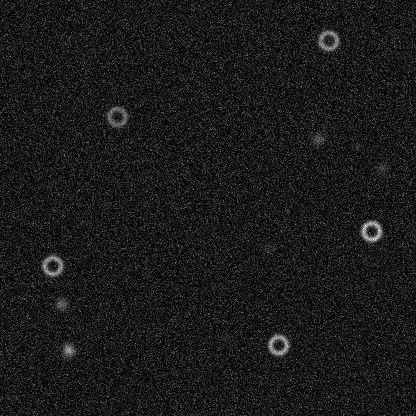Ring: (266, 332, 290, 356), (316, 28, 340, 52), (359, 219, 383, 243), (104, 104, 128, 128), (40, 253, 64, 277)
Spot: (60, 342, 76, 358), (217, 329, 233, 345), (261, 240, 277, 256), (374, 159, 390, 175), (53, 295, 69, 311), (309, 130, 325, 146)
